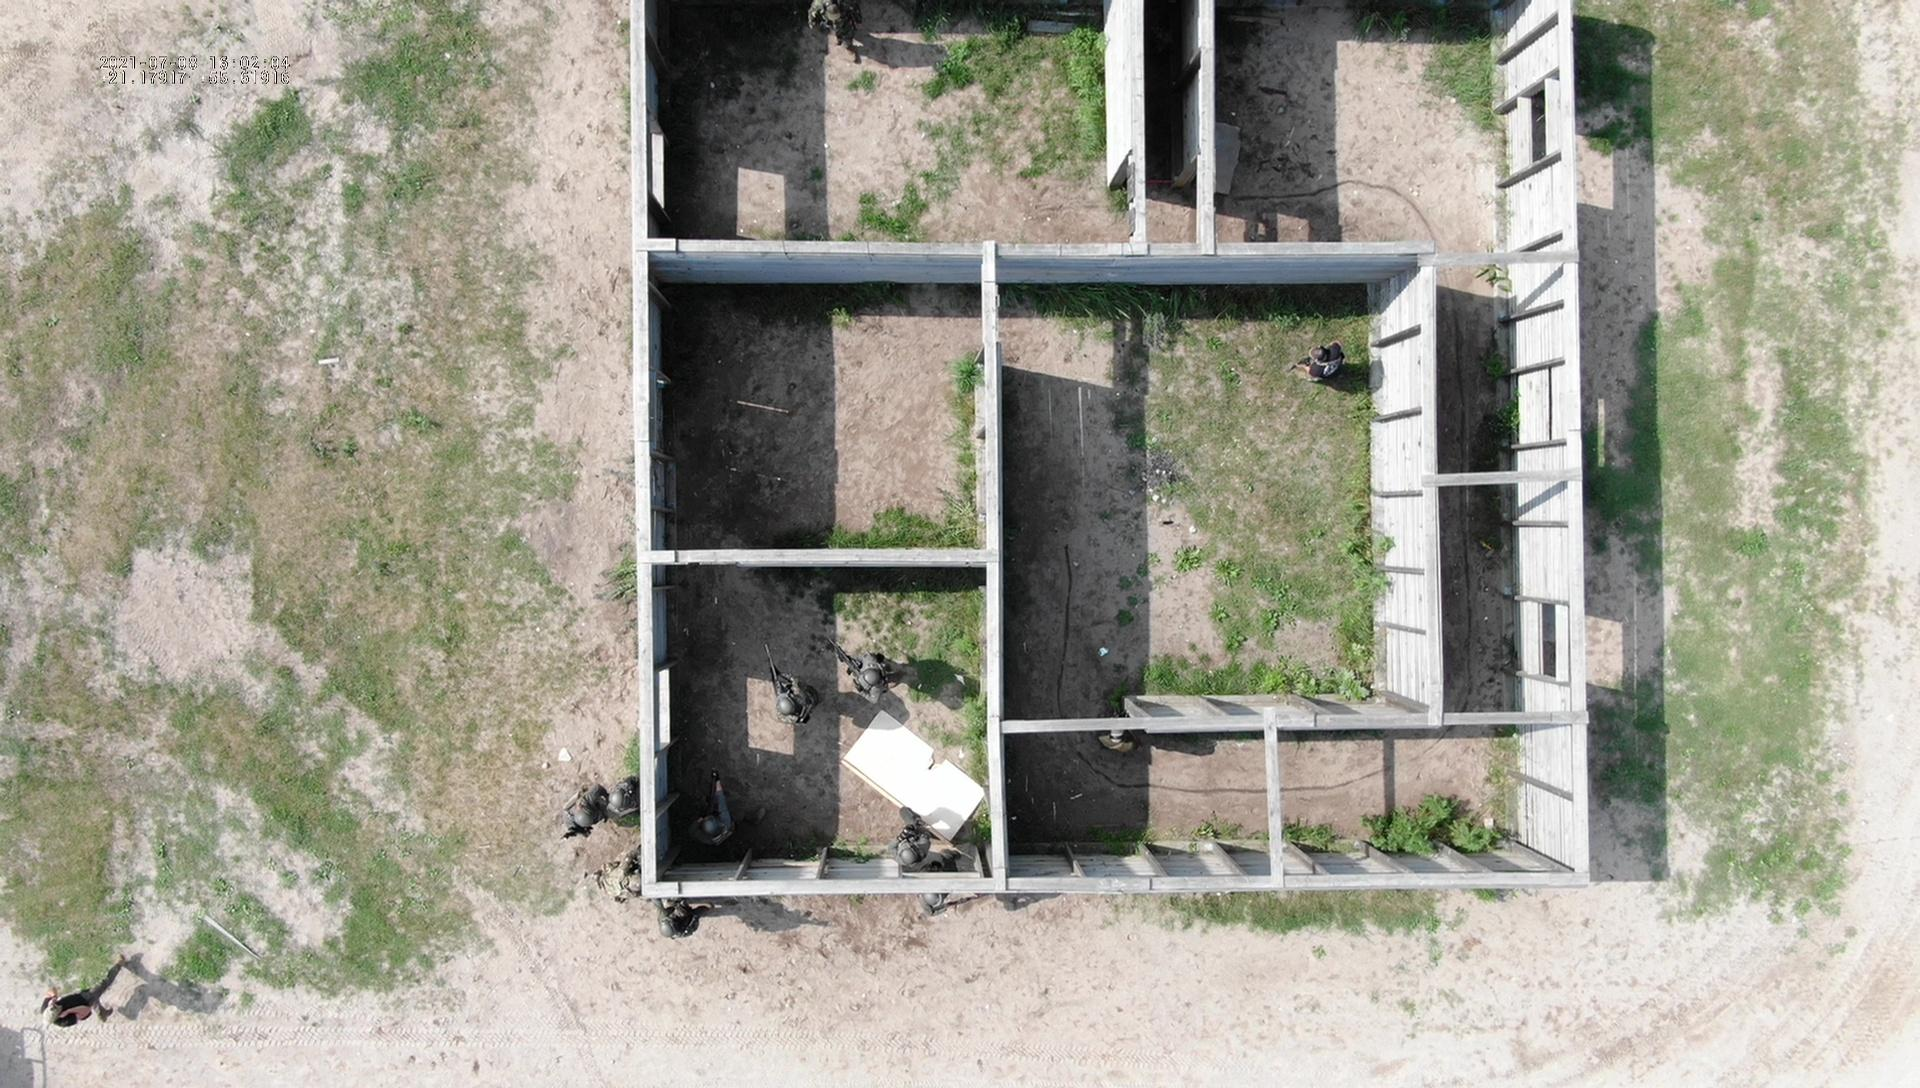Soldier: (33, 942, 156, 1044), (748, 630, 824, 739), (818, 630, 909, 711), (682, 756, 746, 857), (884, 799, 947, 866), (1290, 336, 1357, 397), (554, 773, 607, 844), (592, 840, 641, 915), (649, 895, 708, 944), (604, 762, 638, 820)
